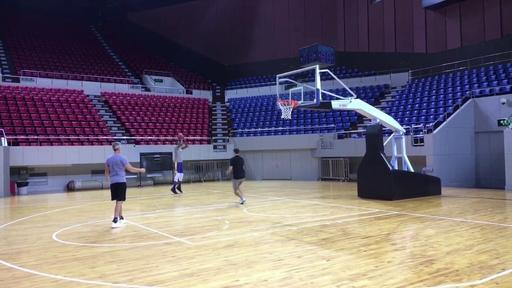ball: (176, 132, 182, 137)
human: (106, 142, 146, 228), (226, 147, 247, 204), (171, 140, 188, 195)
rim: (278, 100, 298, 119)
